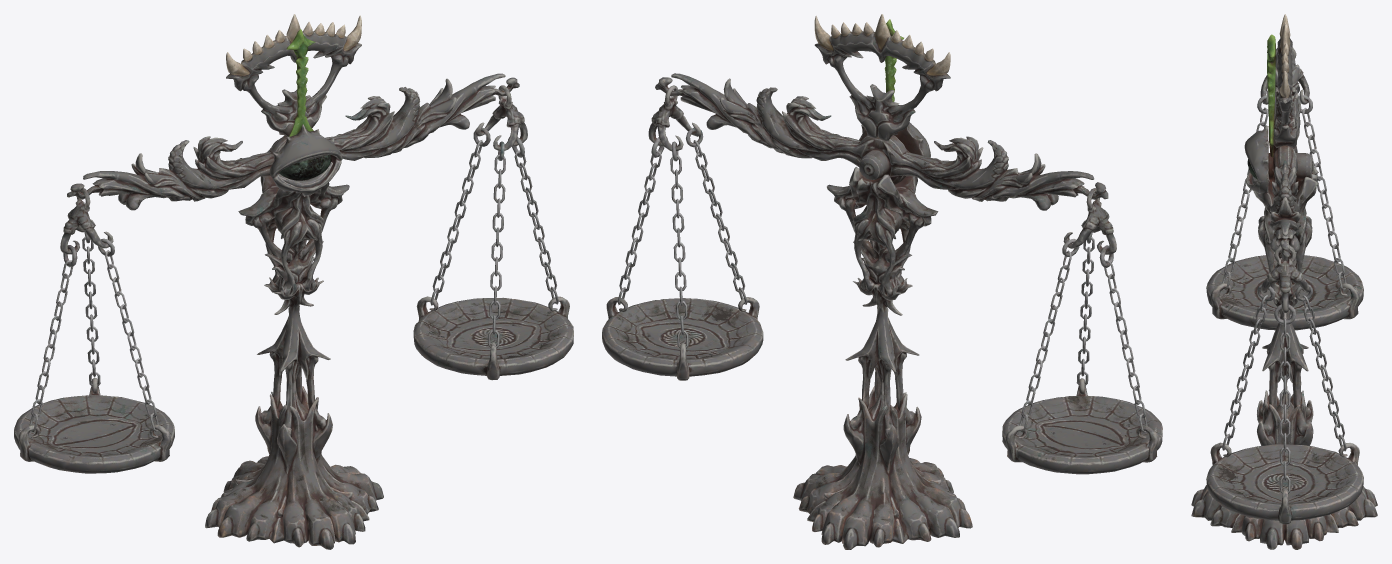
Rendered from Scale.fbx.
3 views of the same model, side by side, from view 1: azimuth 30°, elevation 25°; view 2: azimuth 150°, elevation 25°; view 3: azimuth 270°, elevation 25° (orthographic). The views are drawn at different scales.
Parts seen in each view (by area): view 1: Scale, Arms, LeftDish, RightDish, LeftChains, RightChains, HandLeft, HandRight, Arrow, Eye; view 2: Scale, Arms, LeftDish, RightDish, LeftChains, RightChains, HandLeft, HandRight; view 3: Scale, LeftDish, RightDish, Arms, LeftChains, RightChains, HandLeft, Arrow, LeftRings, HandRight.
Part boxes in pixels (x1=…): Scale: x1=205, y1=14, x2=383, y2=549; Arms: x1=67, y1=73, x2=519, y2=210; LeftDish: x1=413, y1=296, x2=573, y2=380; RightDish: x1=14, y1=377, x2=174, y2=473; LeftChains: x1=430, y1=140, x2=558, y2=348; RightChains: x1=29, y1=236, x2=158, y2=432; HandLeft: x1=475, y1=85, x2=527, y2=150; HandRight: x1=60, y1=188, x2=113, y2=254; Arrow: x1=286, y1=29, x2=315, y2=136; Eye: x1=279, y1=154, x2=331, y2=180; Scale: x1=793, y1=14, x2=972, y2=549; Arms: x1=655, y1=73, x2=1108, y2=210; LeftDish: x1=602, y1=297, x2=763, y2=380; RightDish: x1=1002, y1=378, x2=1162, y2=474; LeftChains: x1=617, y1=140, x2=747, y2=349; RightChains: x1=1019, y1=237, x2=1147, y2=433; HandLeft: x1=648, y1=85, x2=701, y2=151; HandRight: x1=1063, y1=188, x2=1116, y2=254; Scale: x1=1191, y1=14, x2=1377, y2=549; LeftDish: x1=1206, y1=442, x2=1363, y2=524; RightDish: x1=1206, y1=255, x2=1363, y2=330; Arms: x1=1268, y1=51, x2=1313, y2=257; LeftChains: x1=1222, y1=294, x2=1346, y2=494; RightChains: x1=1222, y1=107, x2=1346, y2=290; HandLeft: x1=1260, y1=246, x2=1309, y2=312; Arrow: x1=1267, y1=34, x2=1275, y2=157; LeftRings: x1=1257, y1=284, x2=1312, y2=324; HandRight: x1=1260, y1=48, x2=1309, y2=104.
Size of the model in its own units: 4.57 by 3.96 by 1.38.
